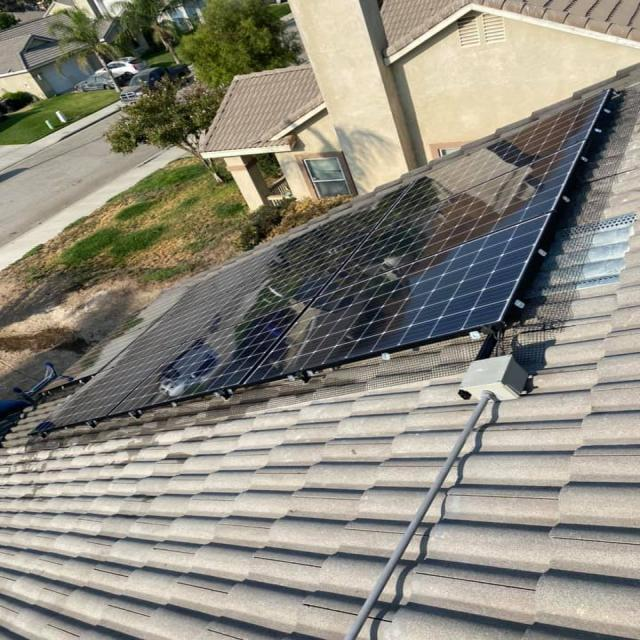clean-solar-panel: (55, 91, 610, 426)
